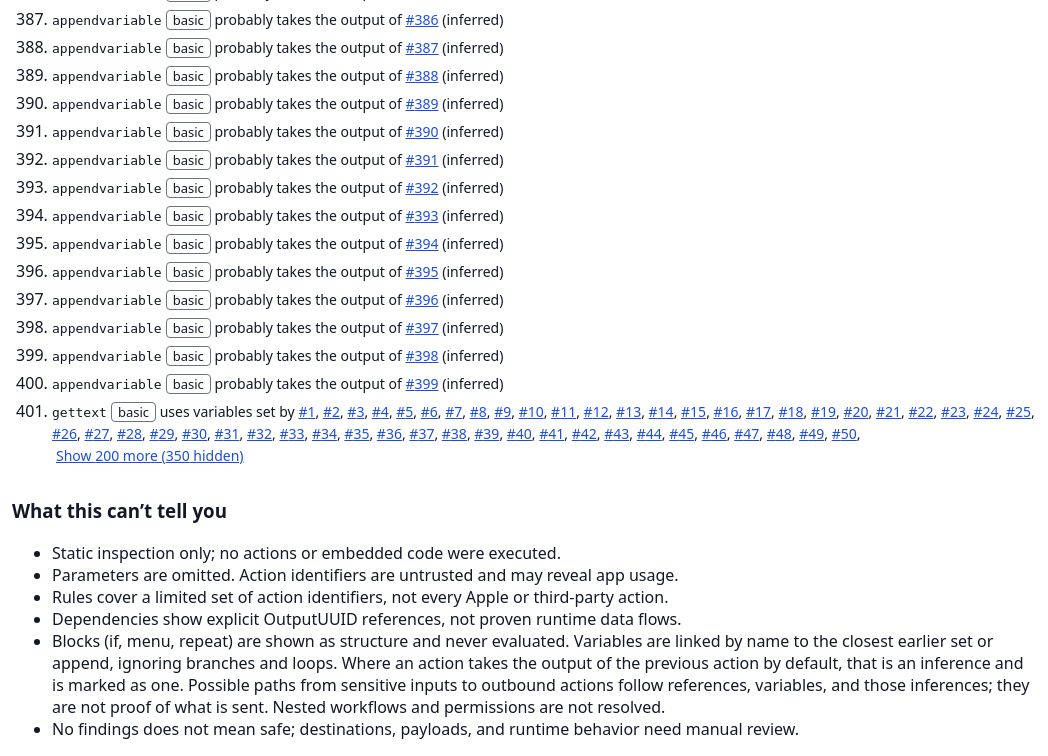
long link lists › shows more on request until none are hidden
(page scrolled)
Click the button: (150, 456) [52, 446, 248, 465]
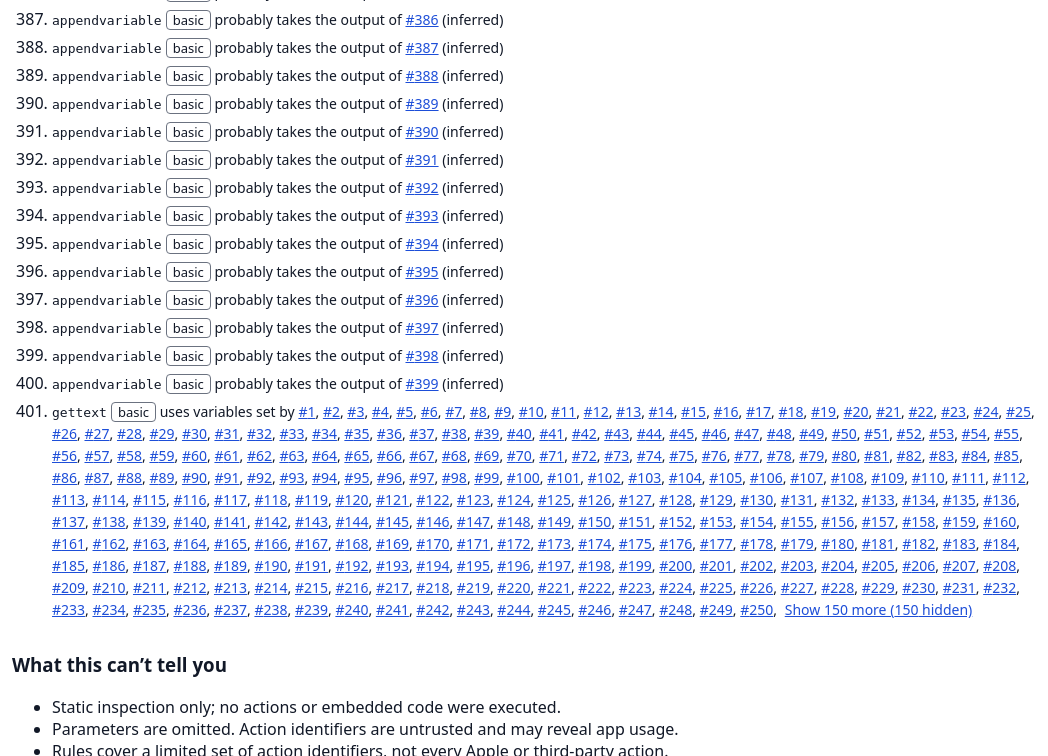
Click the button: (878, 610) [781, 600, 976, 619]
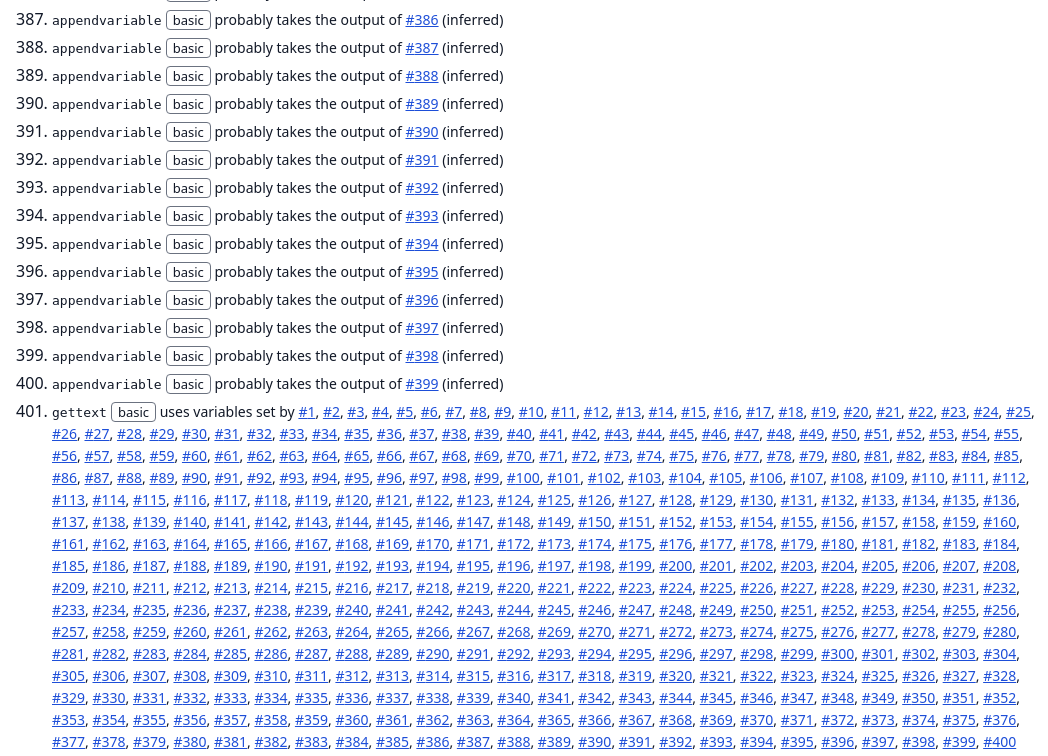
Check: the button "Show 150 more (150 hidden)" is gone
